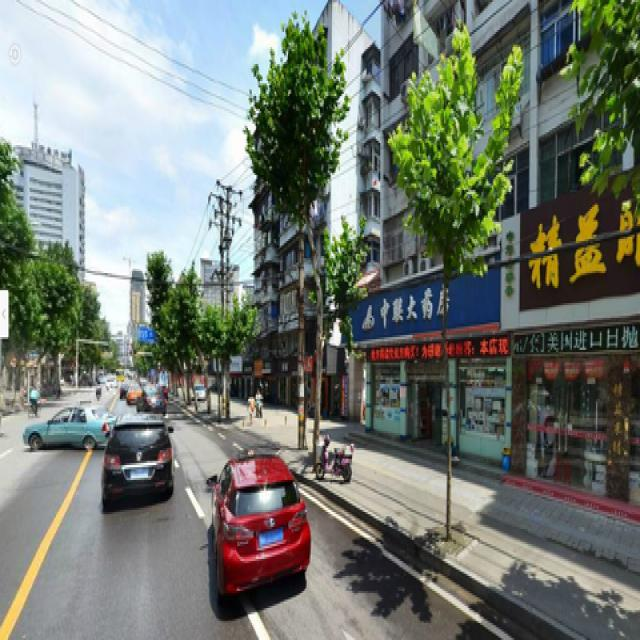meta: (395, 47, 513, 542)
